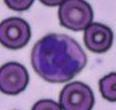N: (30, 33, 86, 81)
